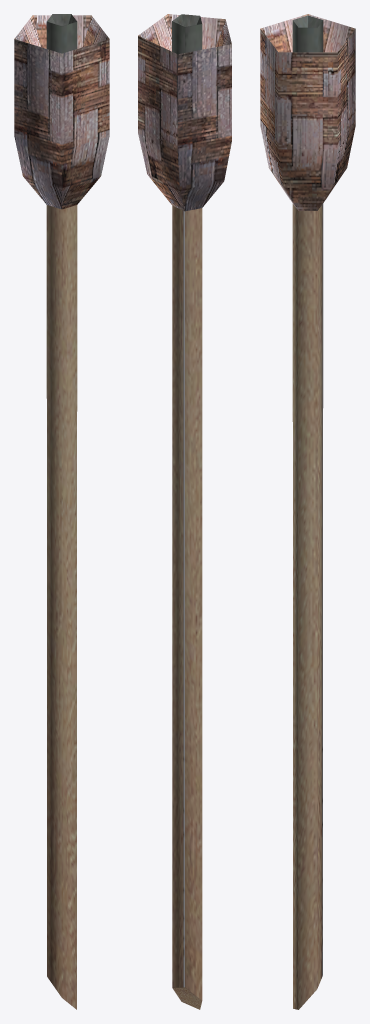
File: frn_all_tiki_torch_s1_l0.fbx
The picture shows the model from 3 angles, left to right: view 1: azimuth 90°, elevation 25°; view 2: azimuth 150°, elevation 25°; view 3: azimuth 270°, elevation 25°; orthographic projection.
Visible parts, largest first — view 1: mesh_node; view 2: mesh_node; view 3: mesh_node.
Boxes of the visible parts, box(x1,y1,x2,y2) form: mesh_node: box(14, 14, 109, 1009); mesh_node: box(138, 14, 231, 1009); mesh_node: box(260, 14, 355, 1009).
Bounding box in the file's own units: 0.1275 × 1.53 × 0.1341.
1 material, 1 textured.
